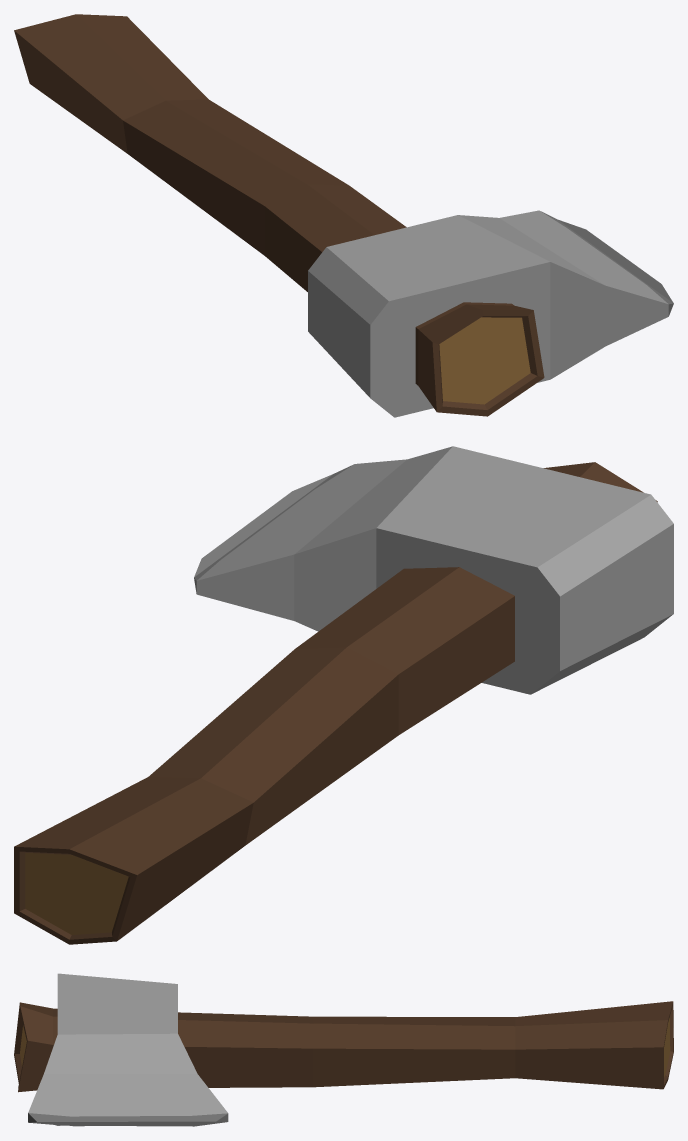
File: kapakxxx.fbx
3 renders of one model, top to bottom at view 1: azimuth 30°, elevation 25°; view 2: azimuth 150°, elevation 25°; view 3: azimuth 270°, elevation 25°, orthographic. The views are drawn at different scales.
Visible parts, largest first — view 1: axe_iron; view 2: axe_iron; view 3: axe_iron.
Part boxes in pixels (<box>): axe_iron: <box>14,14,673,417</box>; axe_iron: <box>14,446,673,944</box>; axe_iron: <box>14,973,673,1126</box>.
Size of the model in its own units: 27.47 by 10.27 by 67.21.
